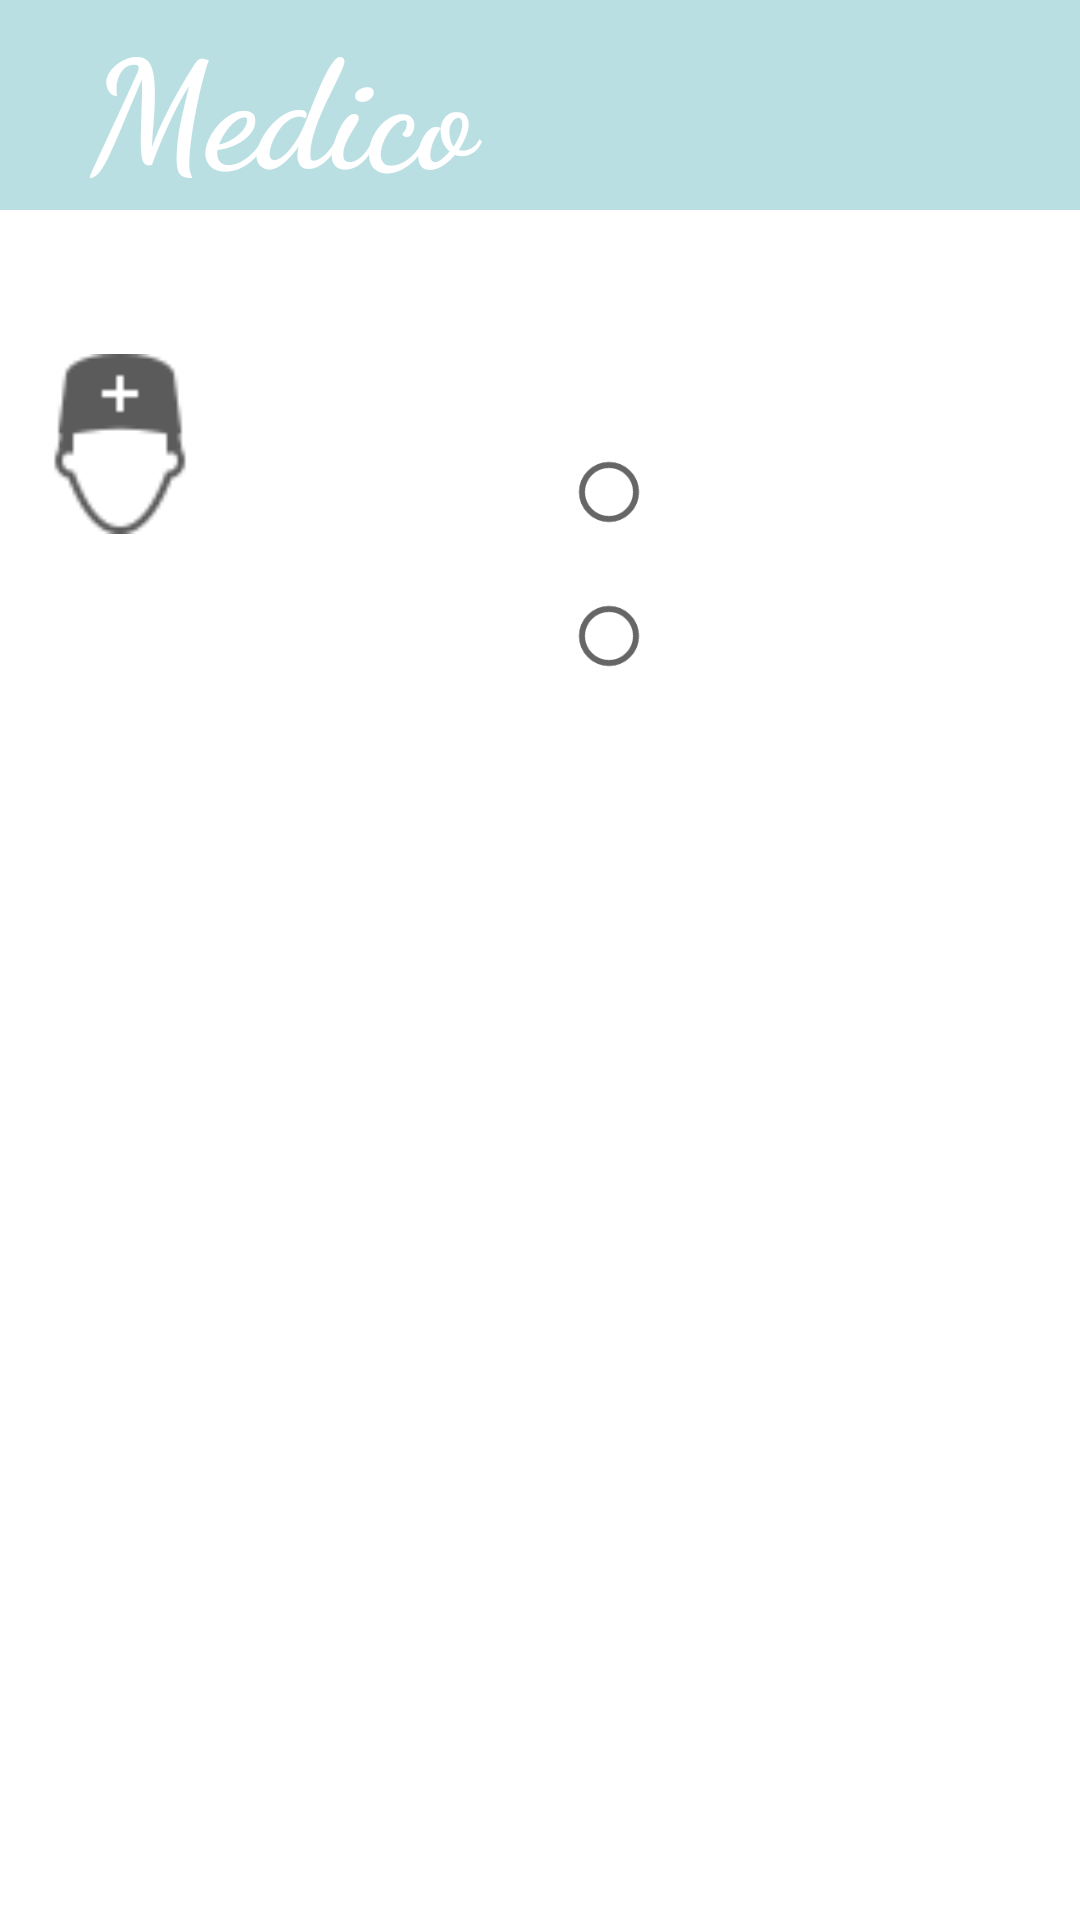

Screen size 1080px×1920px. Icon name, then its box in pixels as rect(x1, y1, x2, y2):
doctorsmall: rect(54, 354, 186, 534)
